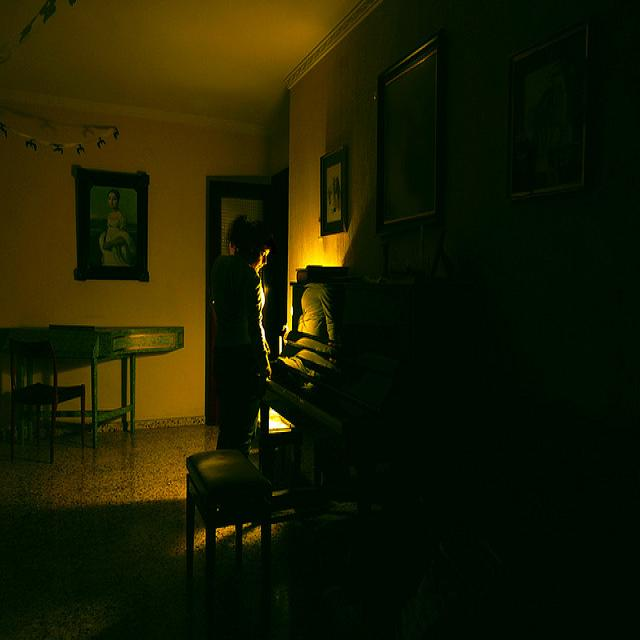People: (196, 206, 286, 493)
Table: (242, 330, 556, 574), (0, 298, 200, 440)
chair: (173, 415, 272, 599), (6, 326, 98, 509)
